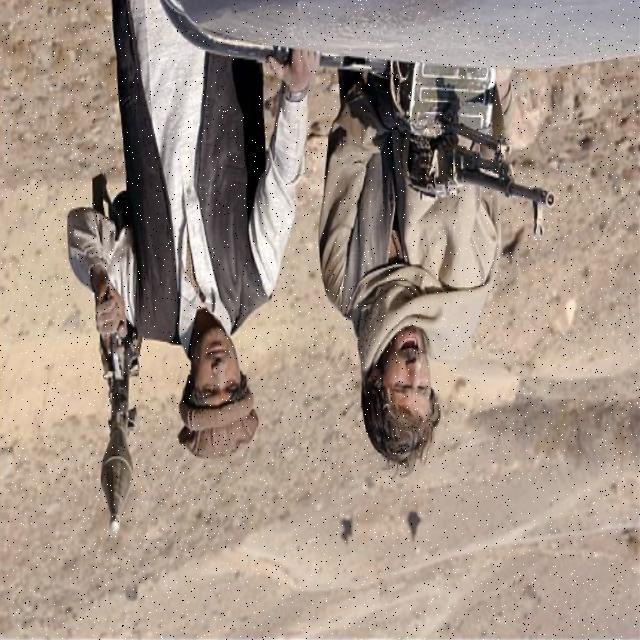bazooka: (88, 160, 150, 551)
